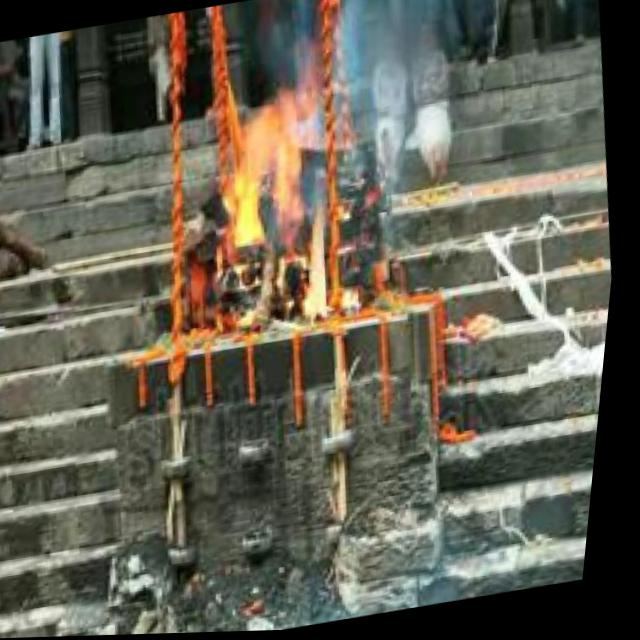Fire: (202, 69, 364, 341)
